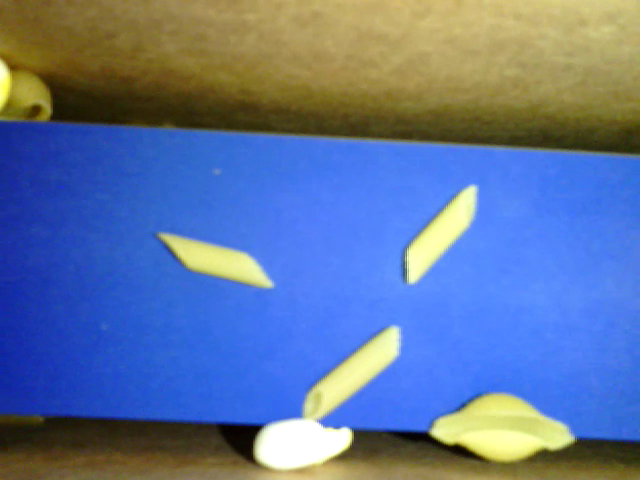penne: (306, 324, 403, 422), (401, 181, 479, 288), (159, 231, 277, 292)
shell: (429, 391, 575, 467), (2, 62, 56, 122)
